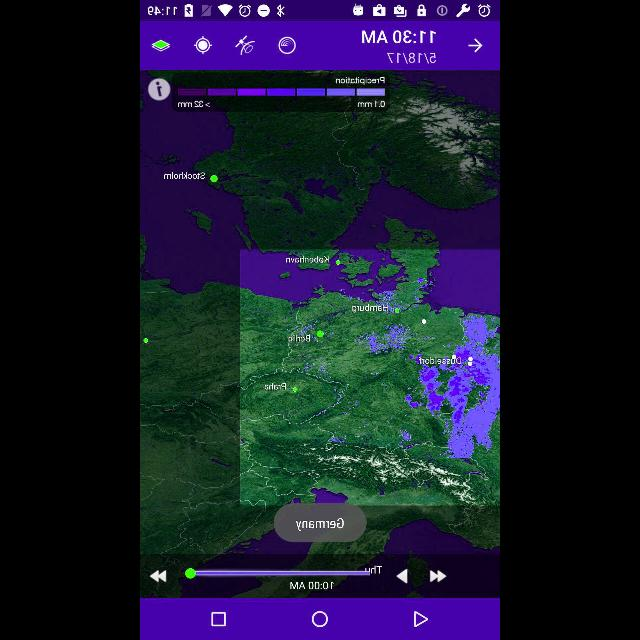icon: (235, 35, 257, 57), (194, 36, 212, 54), (278, 37, 296, 54), (312, 611, 328, 627), (414, 611, 428, 627), (151, 40, 169, 52), (468, 39, 482, 53), (211, 612, 225, 626)
map: (141, 70, 499, 598)
panel: (140, 598, 500, 640)
text: (362, 30, 436, 44), (386, 52, 436, 64)
toolbar: (141, 21, 499, 69)
uppertaskbar: (141, 1, 499, 21)
